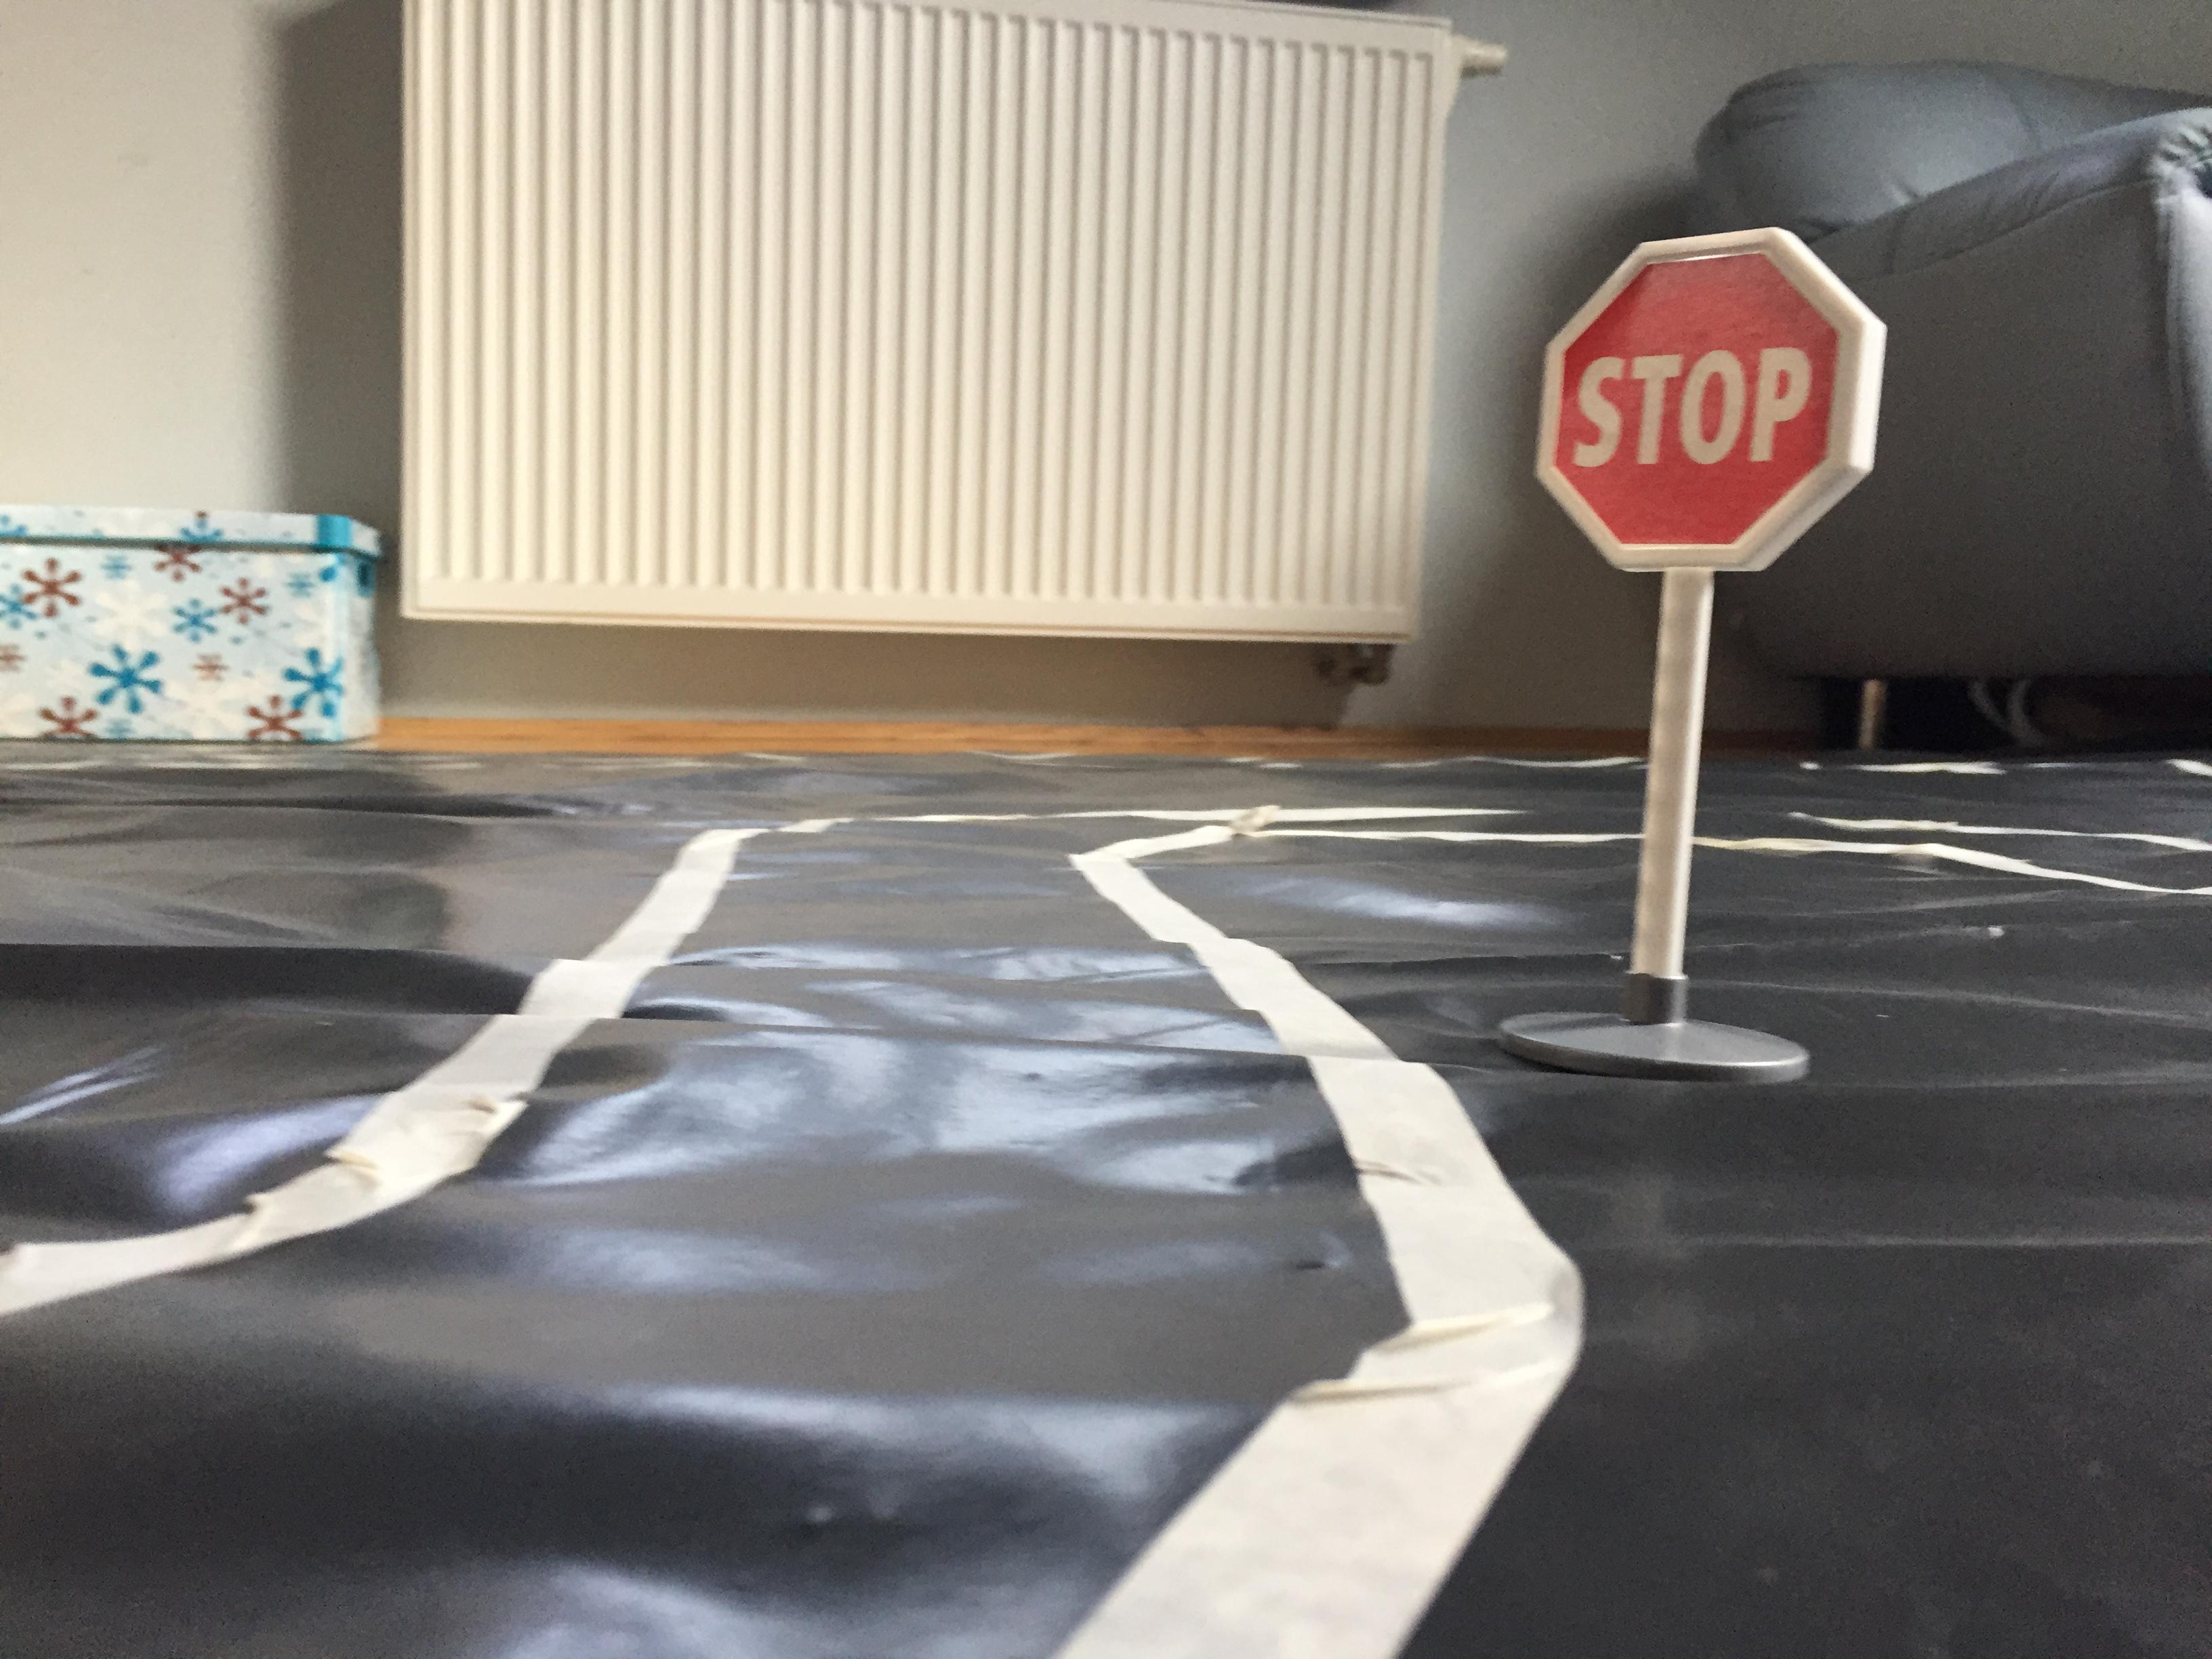stop: (1519, 216, 1900, 591)
